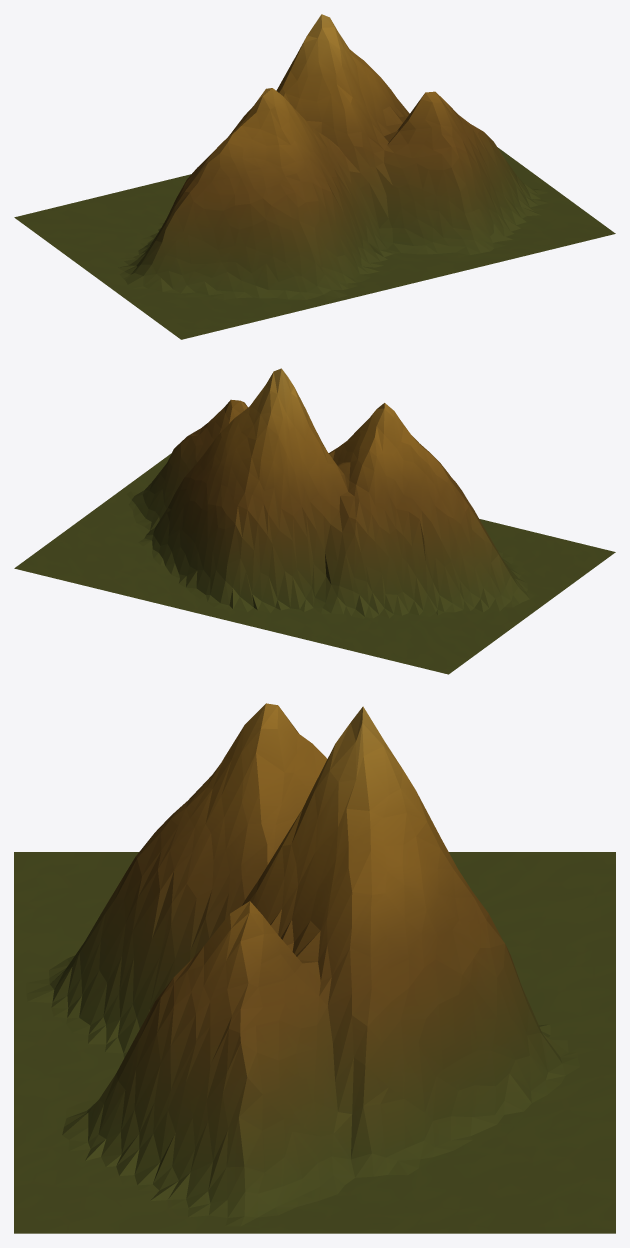
File: RockPeak_A.fbx
The picture shows the model from 3 angles, top to bottom: view 1: azimuth 30°, elevation 25°; view 2: azimuth 150°, elevation 25°; view 3: azimuth 270°, elevation 25°; orthographic projection. The views are drawn at different scales.
Parts seen in each view (by area): view 1: RockPeak_A; view 2: RockPeak_A; view 3: RockPeak_A.
Boxes of the visible parts, x1,y1,x2,y2 form: RockPeak_A: (14, 14, 615, 339); RockPeak_A: (14, 368, 615, 674); RockPeak_A: (14, 703, 615, 1233).
Size of the model in its own units: 1800 by 779 by 1200.
